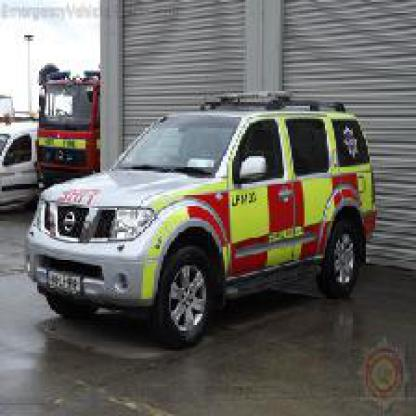emergency: (21, 87, 381, 354)
